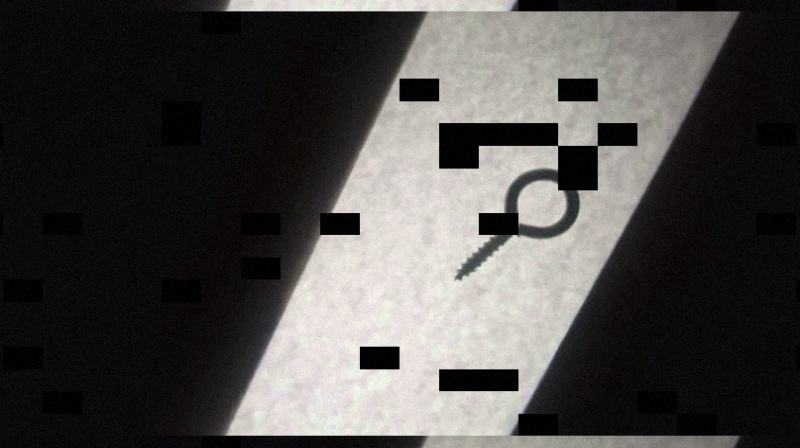O001: (452, 166, 584, 282)
